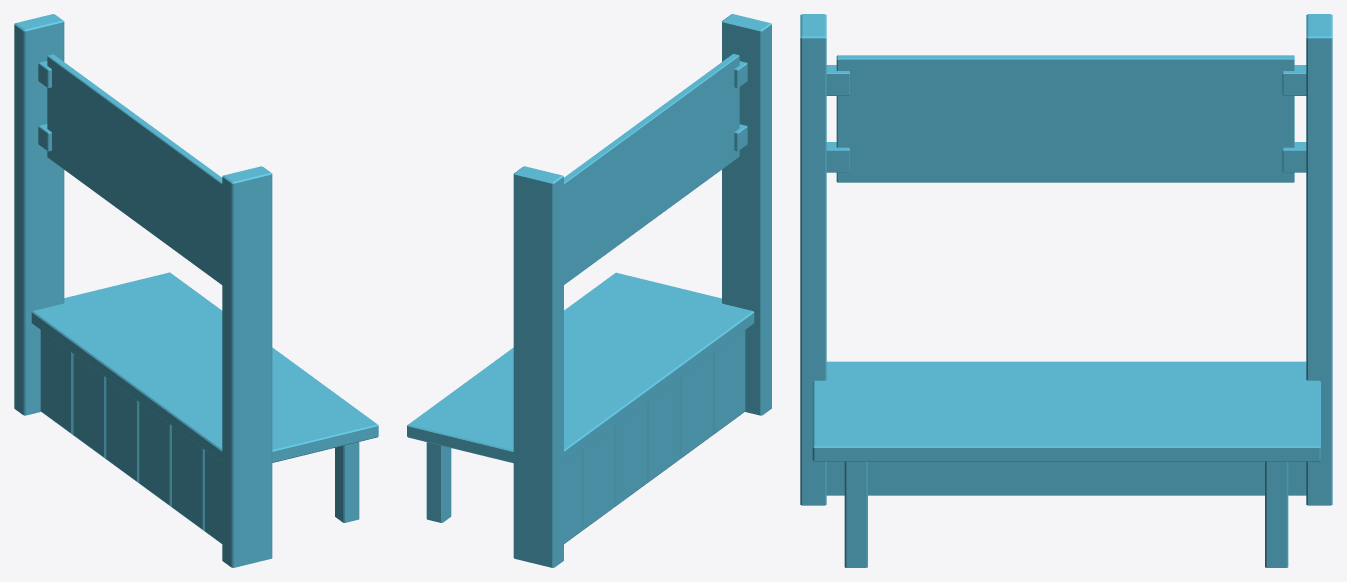
File: Kiosk00(2).fbx
3 renders of one model, left to right at view 1: azimuth 30°, elevation 25°; view 2: azimuth 150°, elevation 25°; view 3: azimuth 270°, elevation 25°, orthographic. The views are drawn at different scales.
Visible parts, largest first — view 1: Kiosk; view 2: Kiosk; view 3: Kiosk.
Boxes of the visible parts, x1,y1,x2,y2 form: Kiosk: (14, 14, 378, 567); Kiosk: (407, 14, 771, 567); Kiosk: (800, 14, 1332, 567).
Size of the model in its own units: 241 by 582 by 600.
